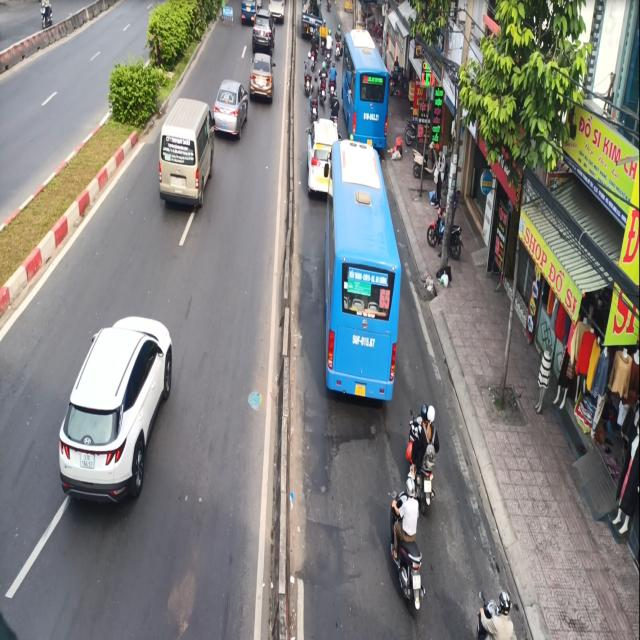bus: (322, 146, 401, 422), (340, 23, 391, 152)
car: (56, 305, 175, 530), (154, 89, 214, 211), (213, 69, 249, 135)
motor: (385, 478, 426, 610)
